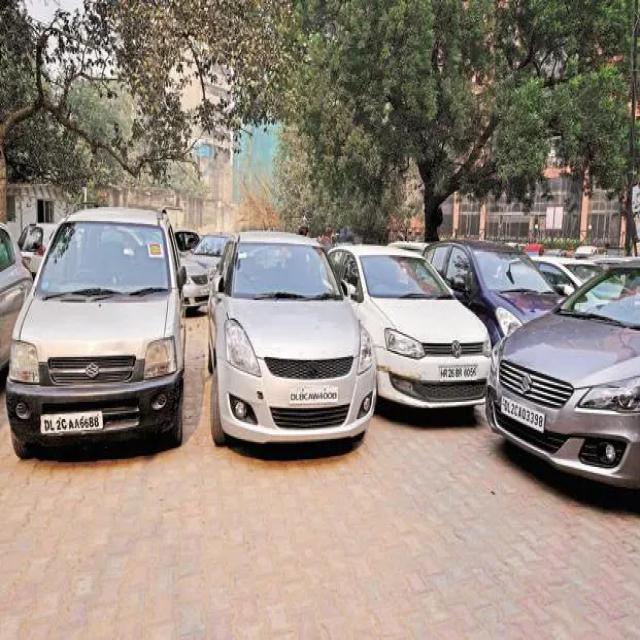plate: (38, 407, 105, 437), (499, 394, 546, 432), (288, 384, 340, 408), (436, 361, 477, 382)
